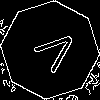V: (25, 25, 82, 80)
